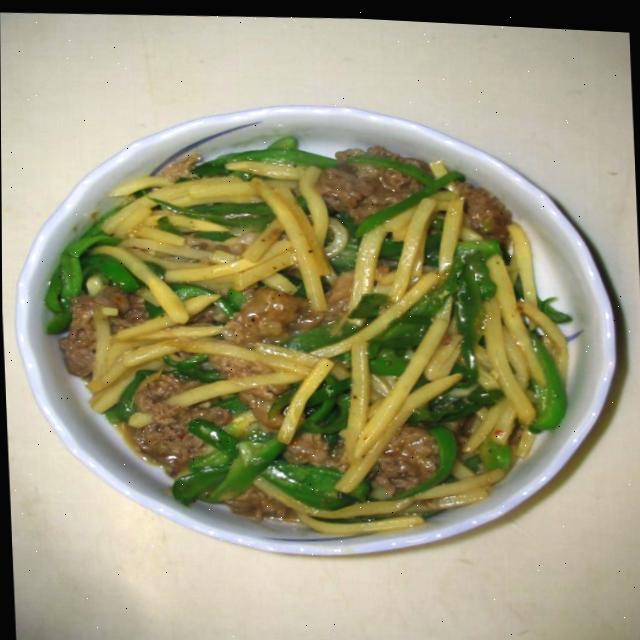牛肉菜式: (0, 63, 640, 585)
